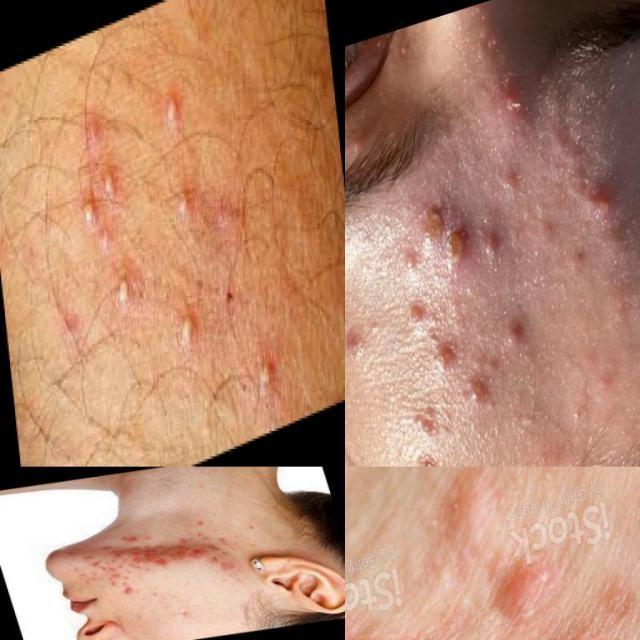Acne: (358, 96, 626, 464), (34, 84, 276, 404), (434, 470, 551, 617), (82, 528, 245, 590)
